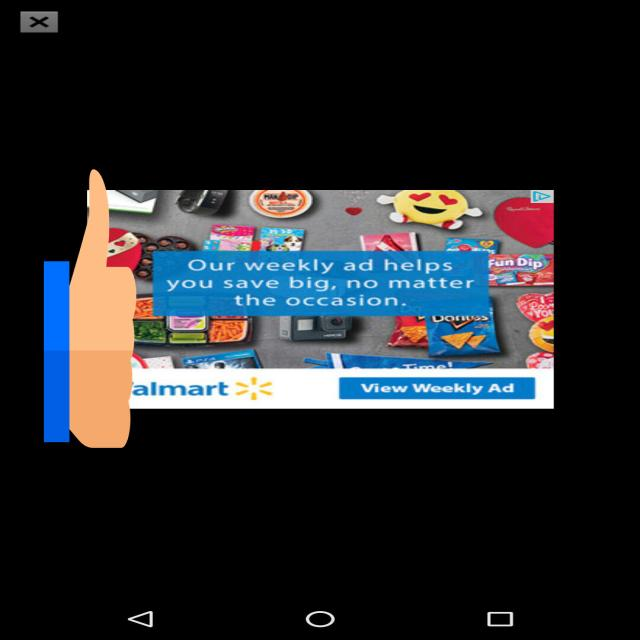privacy zuckering: (44, 162, 136, 455)
